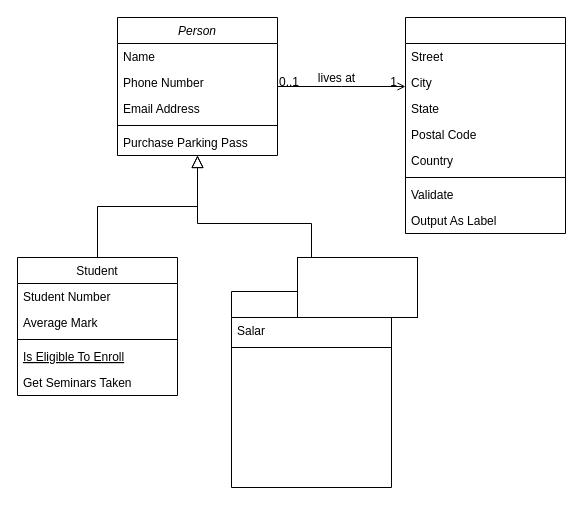
The diagram is 583 pixels wide and 505 high, and some of its shapes have lost their labels. The shapes that lost their labels are listed below. From the top down, each one's box as (x1, y1, x2, y2) in pixels, then its label:
(404, 16, 566, 234): Address
(230, 290, 392, 488): Professor
